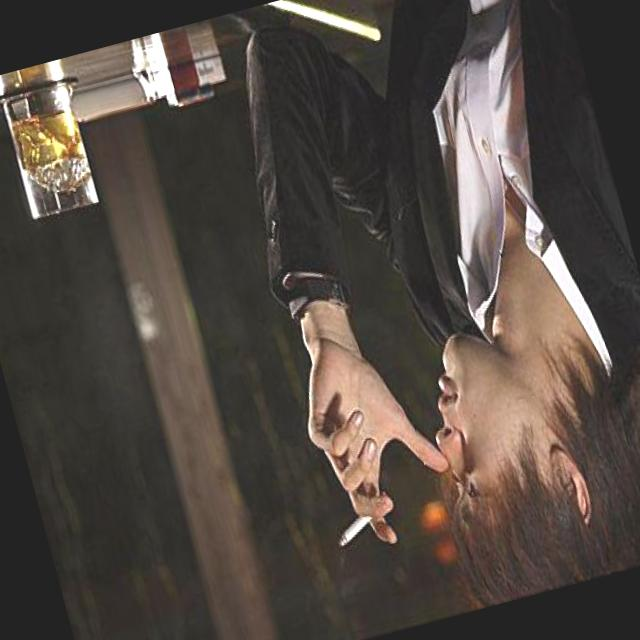smoke: (319, 502, 372, 551)
